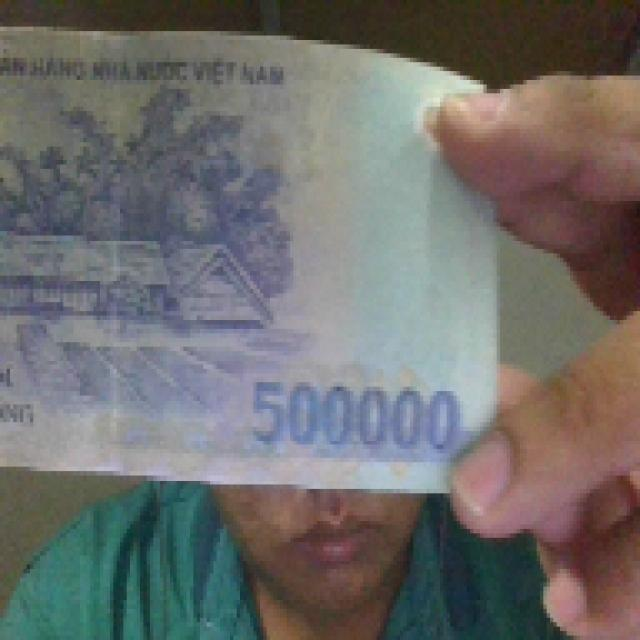500 000 VND: (0, 18, 507, 493)
